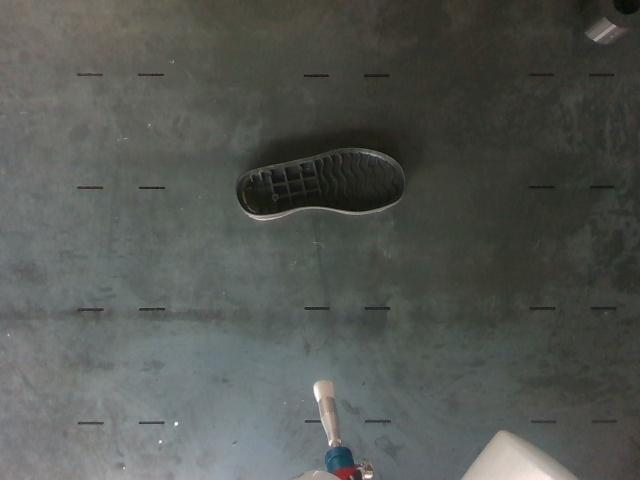shoes: (237, 148, 405, 215)
